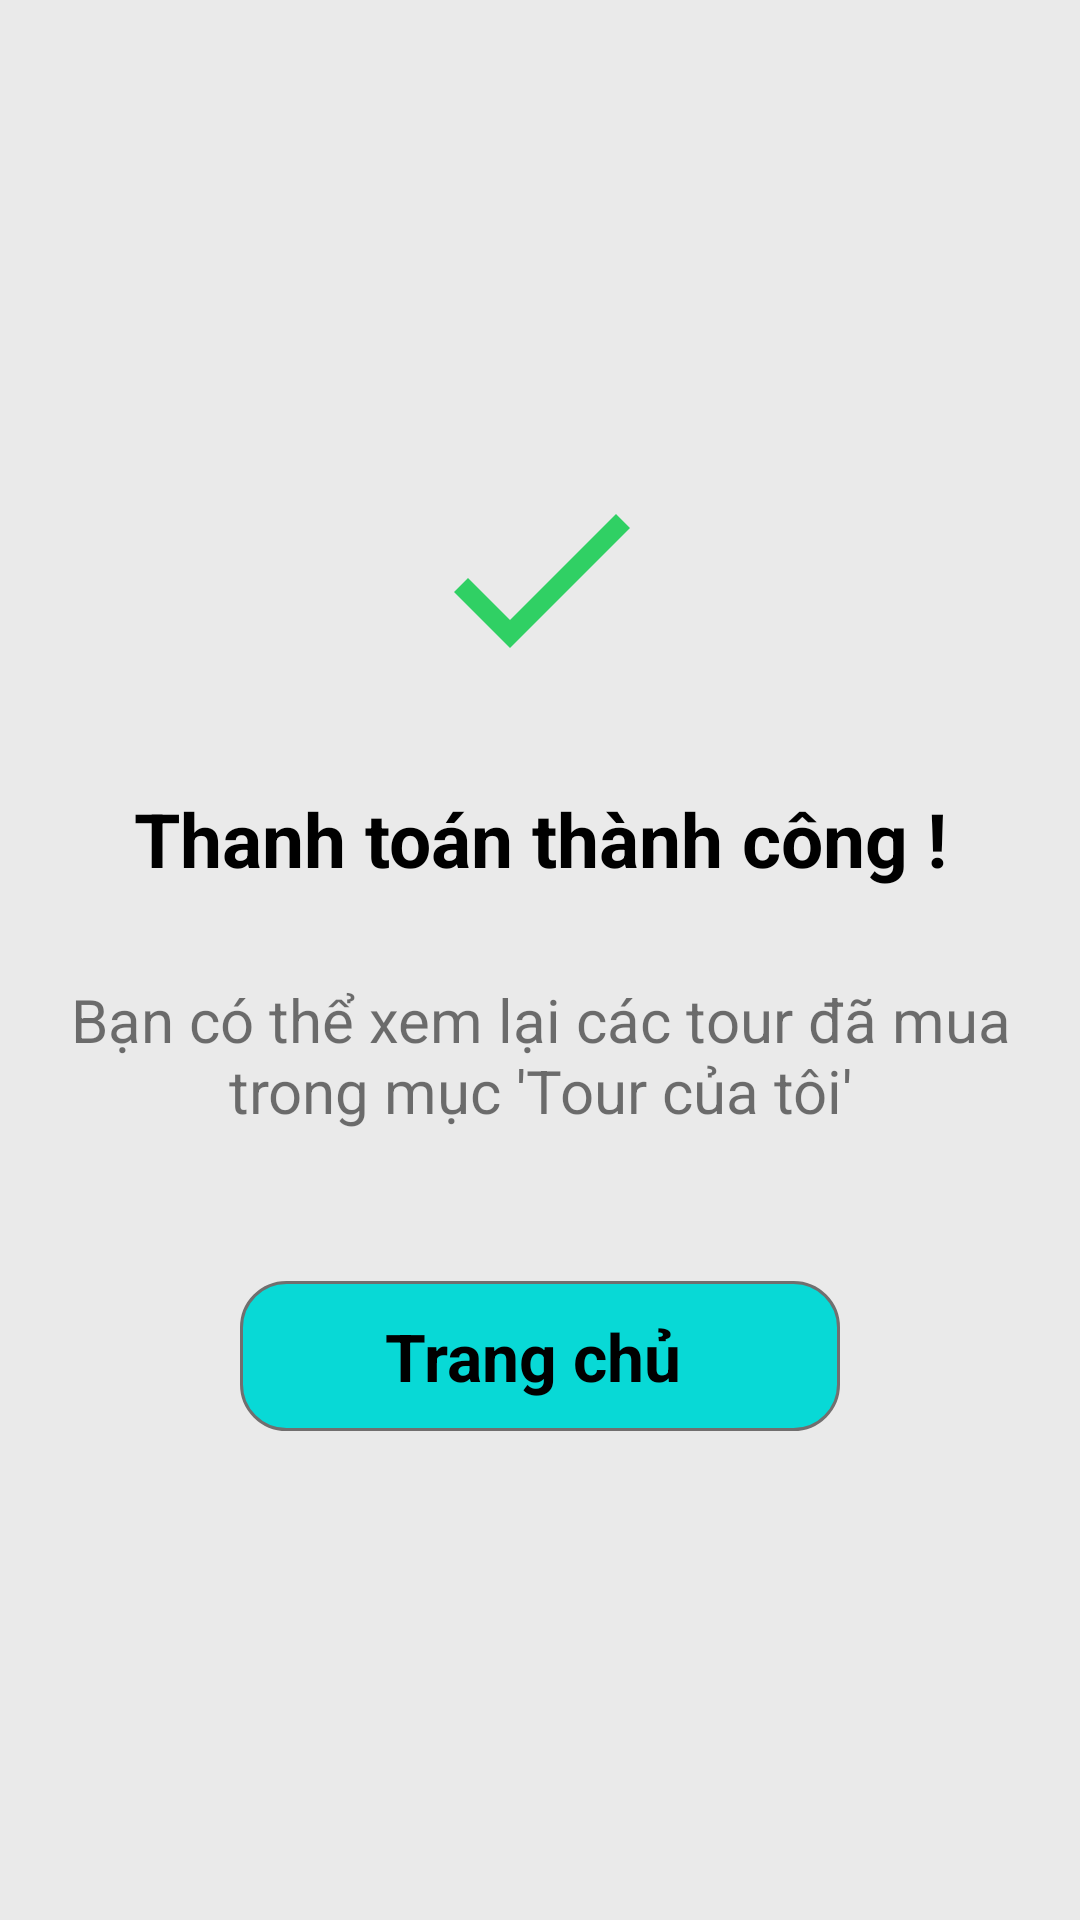

Where to tap for icons on this 1080px x 1920px app screen, as [x,y]:
done: [542,581]
